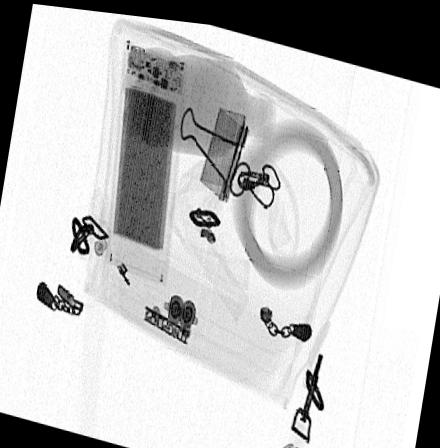Powerbank: (104, 34, 188, 282)
